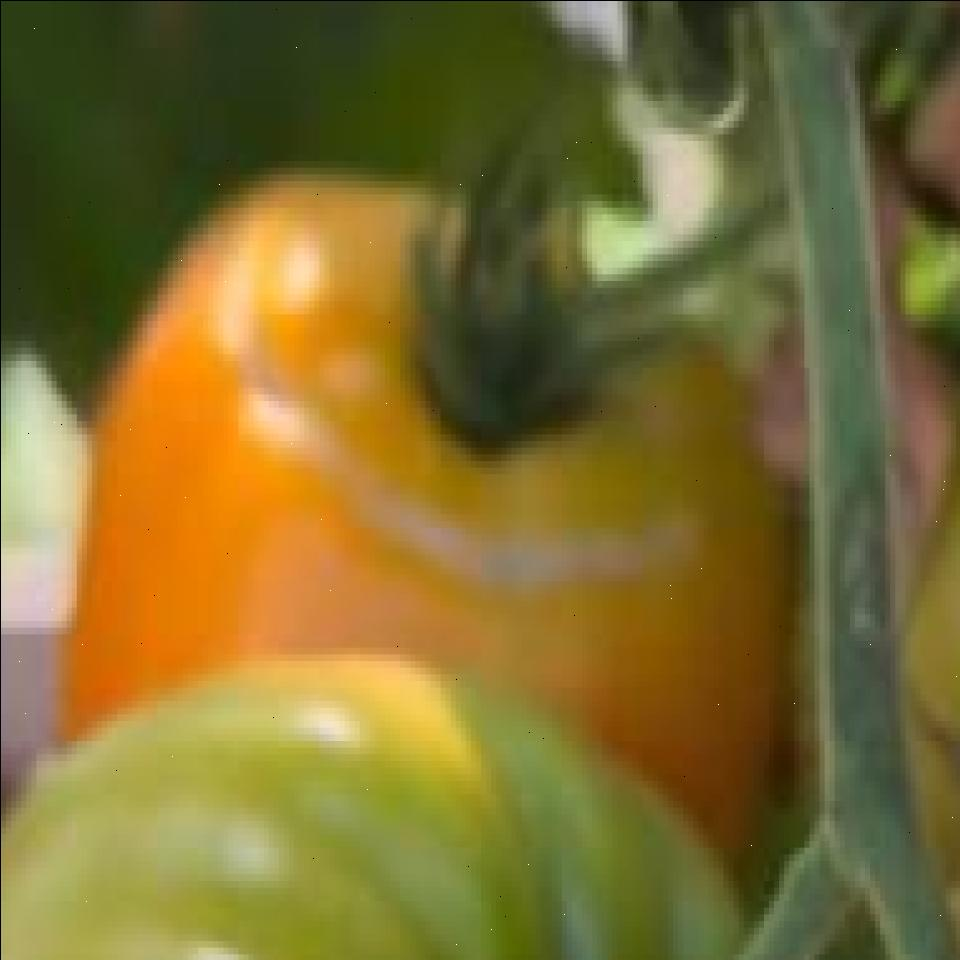Cracking: (205, 203, 758, 580)
